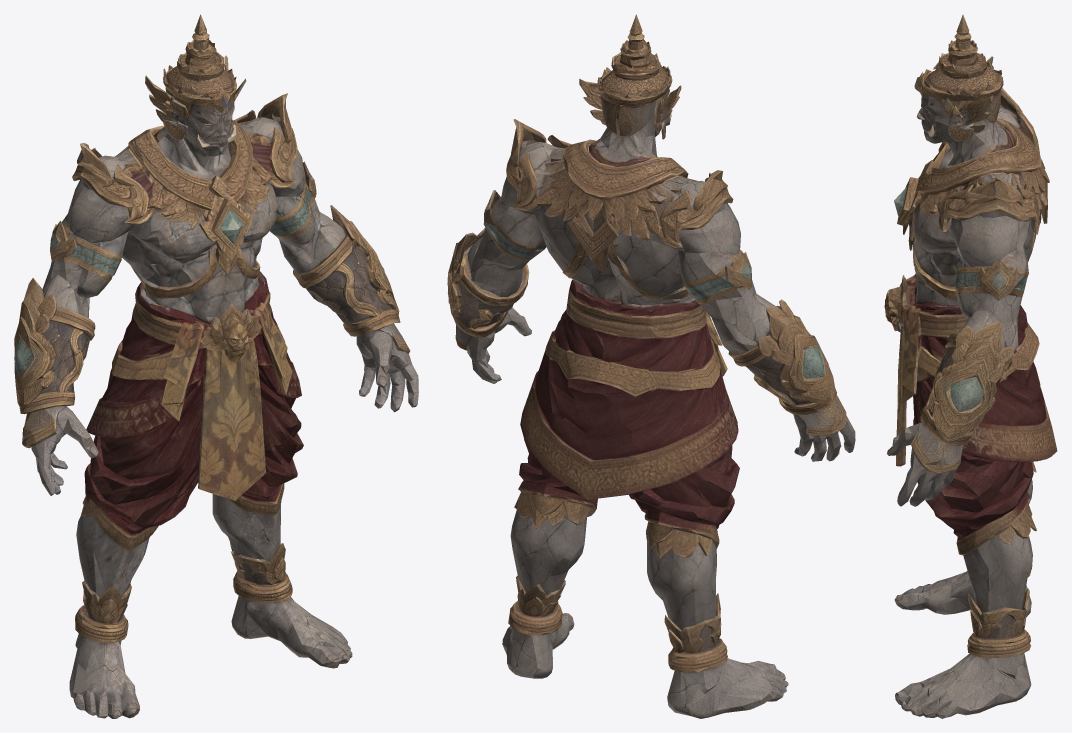
File: sealed_mine_3.glb
3 renders of one model, left to right at view 1: azimuth 30°, elevation 25°; view 2: azimuth 150°, elevation 25°; view 3: azimuth 270°, elevation 25°, orthographic. The views are drawn at different scales.
Size of the model in its own units: 1.16 by 1.9 by 0.4632.
1 material, 1 textured.
